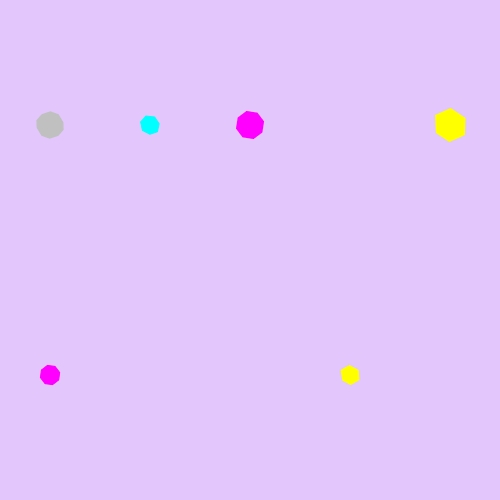decagon: (32, 108, 69, 142)
heptagon: (136, 111, 165, 139)
hexagon: (429, 107, 472, 144), (335, 362, 365, 388)
octagon: (232, 107, 269, 144), (35, 360, 65, 390)
